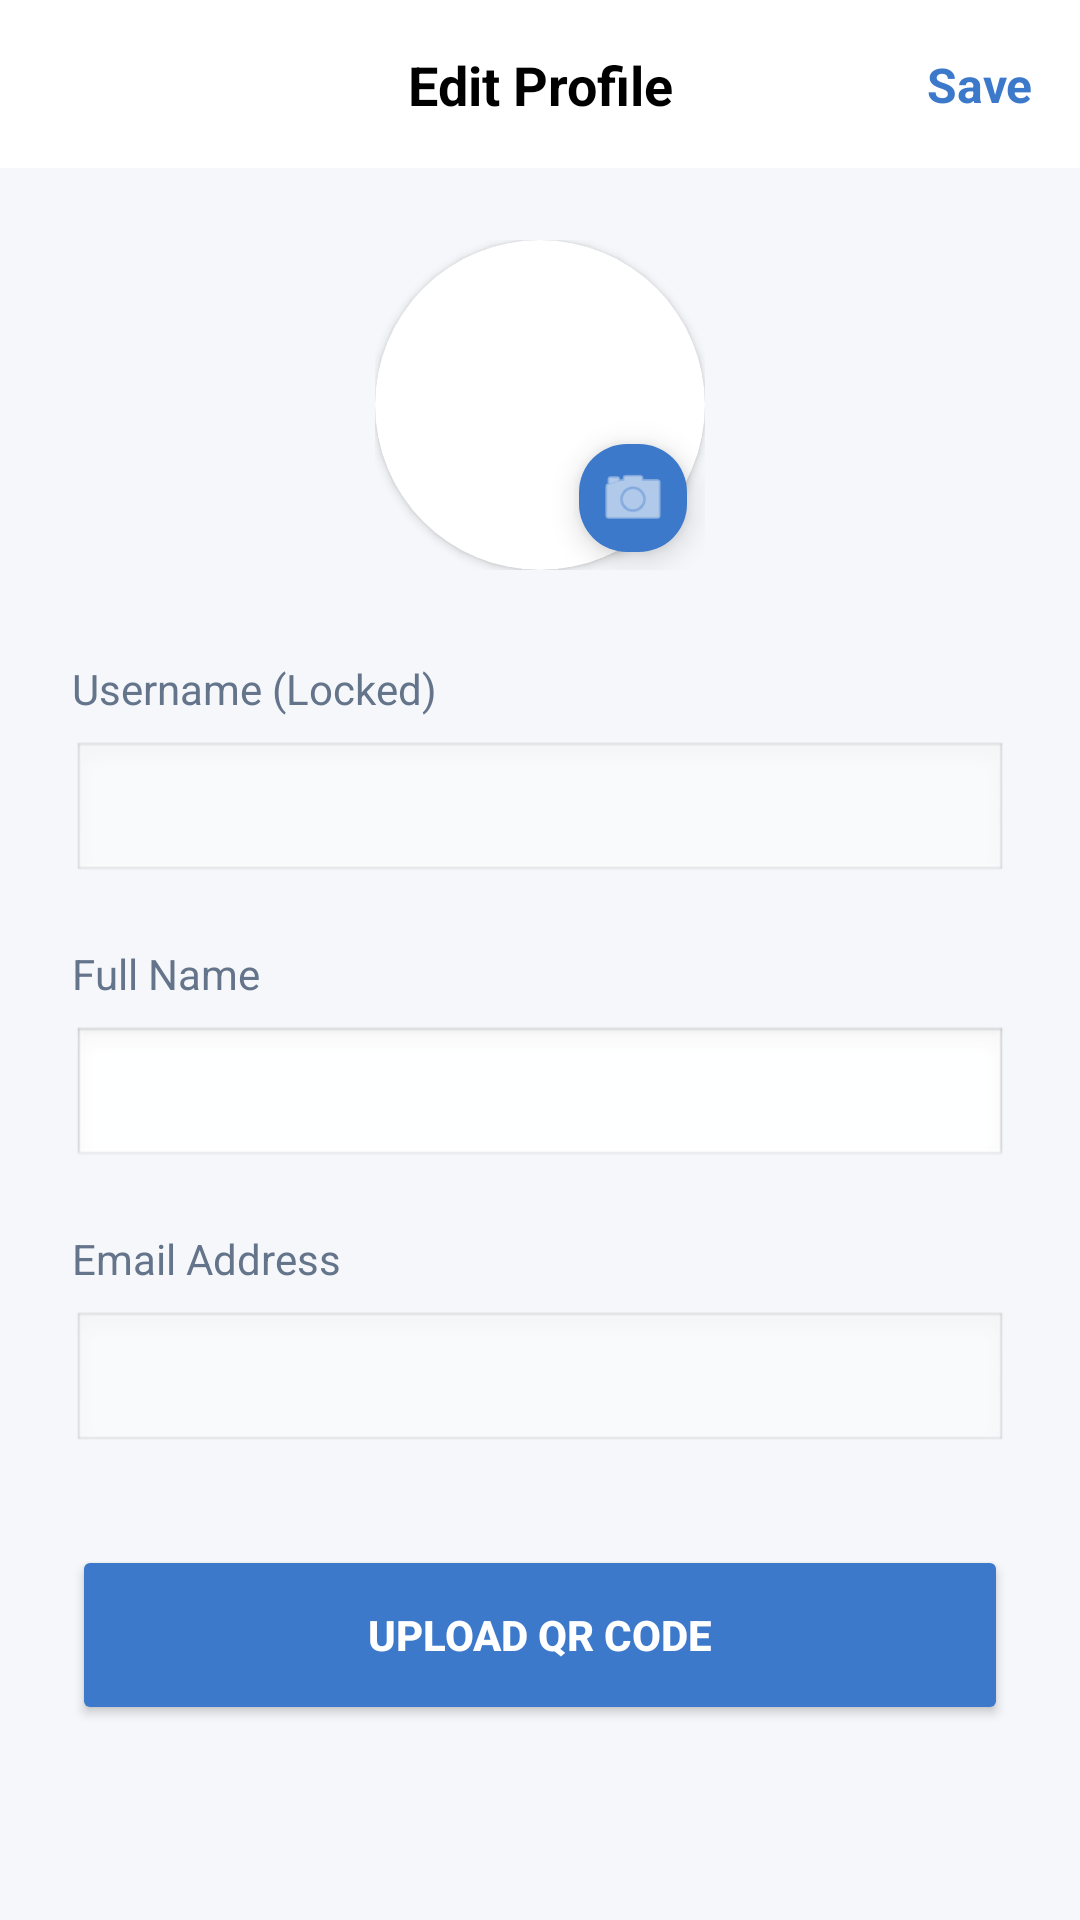

Screen size 1080×1920. Icon name, then its center in pixels as (x=x, y=y):
camera: (x=633, y=498)
